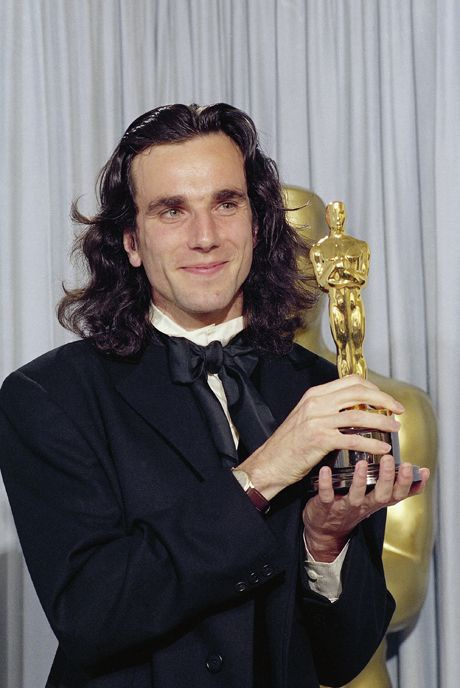hand: (289, 382, 399, 448)
